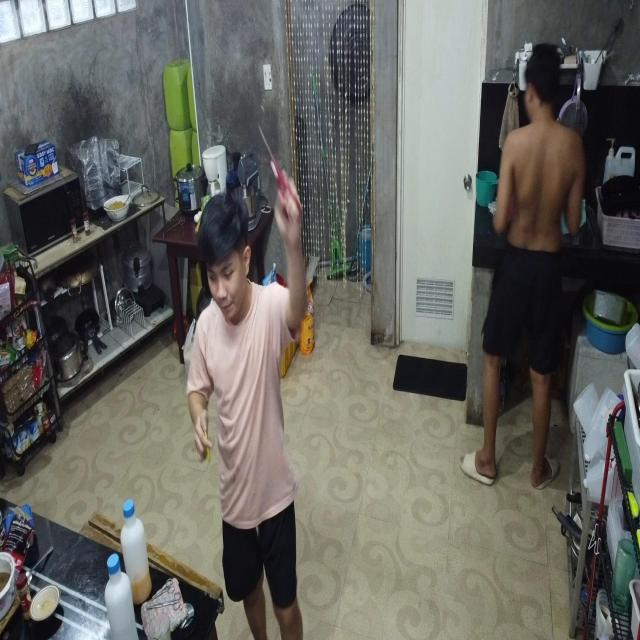scissor: (255, 121, 303, 219), (147, 592, 181, 611), (151, 578, 175, 600)
